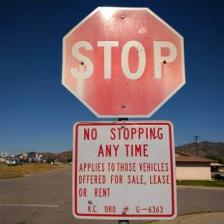Stop-sign: (56, 4, 198, 120)
